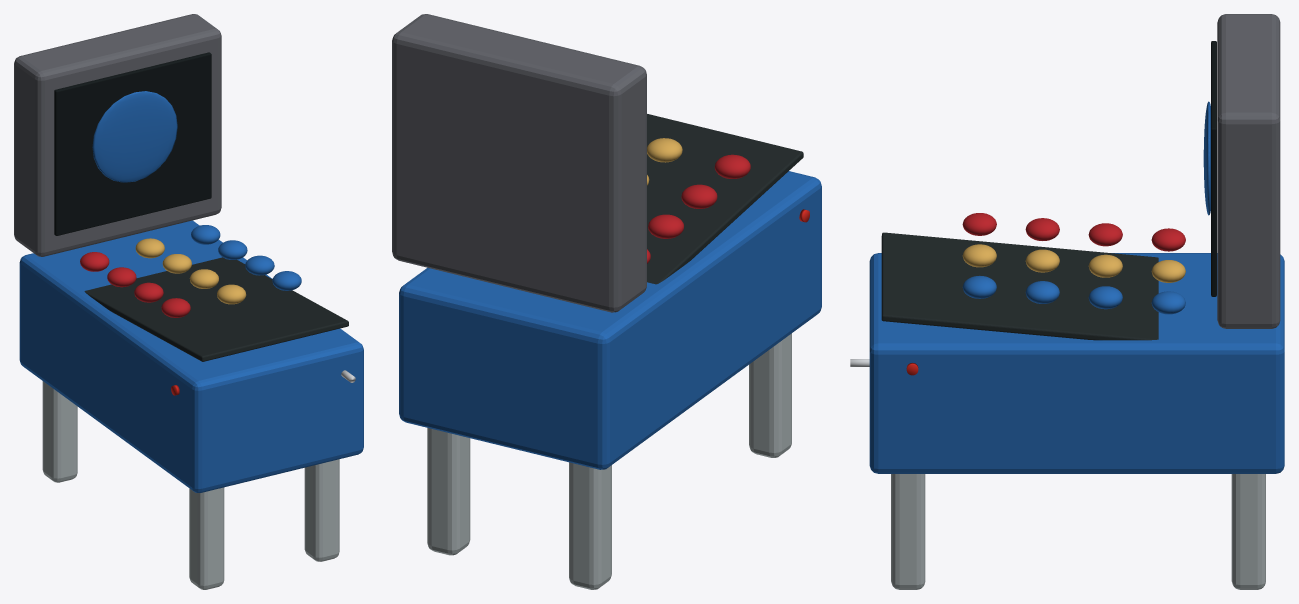
File: hiperreal.glb
3 views of the same model, side by side, from view 1: azimuth 30°, elevation 25°; view 2: azimuth 150°, elevation 25°; view 3: azimuth 270°, elevation 25° (orthographic). The views are drawn at different scales.
Visible parts, largest first — view 1: Pinball cabinet, Backbox, Backglass, Playfield, Planet, Leg.001, Leg.003, Leg, Bumper.006, Bumper.001, Bumper.003, Bumper.008 (+8 smaller); view 2: Pinball cabinet, Backbox, Playfield, Leg.002, Leg, Leg.001, Bumper.006, Bumper.003, Bumper.010, Bumper.009; view 3: Pinball cabinet, Playfield, Backbox, Leg.002, Leg.003, Backglass, Planet, Bumper, Bumper.002, Bumper.010, Bumper.007, Bumper.003 (+7 smaller).
Boxes of the visible parts, bbox=[...] form: Pinball cabinet: bbox=[19, 220, 363, 492]; Backbox: bbox=[14, 14, 221, 256]; Backglass: bbox=[54, 52, 211, 235]; Playfield: bbox=[84, 257, 348, 361]; Planet: bbox=[92, 91, 177, 182]; Leg.001: bbox=[189, 487, 224, 589]; Leg.003: bbox=[304, 459, 339, 561]; Leg: bbox=[42, 381, 77, 482]; Bumper.006: bbox=[134, 282, 163, 302]; Bumper.001: bbox=[135, 238, 164, 258]; Bumper.003: bbox=[107, 267, 136, 287]; Bumper.008: bbox=[245, 255, 274, 275]; Pinball cabinet: bbox=[399, 171, 821, 469]; Backbox: bbox=[392, 14, 646, 312]; Playfield: bbox=[647, 114, 803, 284]; Leg.002: bbox=[427, 428, 470, 555]; Leg: bbox=[569, 462, 611, 589]; Leg.001: bbox=[749, 333, 791, 457]; Bumper.006: bbox=[681, 184, 717, 208]; Bumper.003: bbox=[648, 214, 683, 238]; Bumper.010: bbox=[647, 138, 682, 162]; Bumper.009: bbox=[714, 154, 750, 178]; Pinball cabinet: bbox=[869, 253, 1284, 473]; Playfield: bbox=[881, 232, 1158, 340]; Backbox: bbox=[1217, 14, 1280, 328]; Leg.002: bbox=[1231, 474, 1265, 589]; Leg.003: bbox=[891, 474, 925, 589]; Backglass: bbox=[1211, 41, 1216, 296]; Planet: bbox=[1203, 101, 1210, 215]; Bumper: bbox=[1151, 228, 1185, 251]; Bumper.002: bbox=[1151, 291, 1185, 314]; Bumper.010: bbox=[962, 244, 996, 267]; Bumper.007: bbox=[1025, 249, 1059, 272]; Bumper.003: bbox=[1088, 223, 1122, 246].
Bounding box in the file's own units: 0.6 × 1.3 × 1.05.
